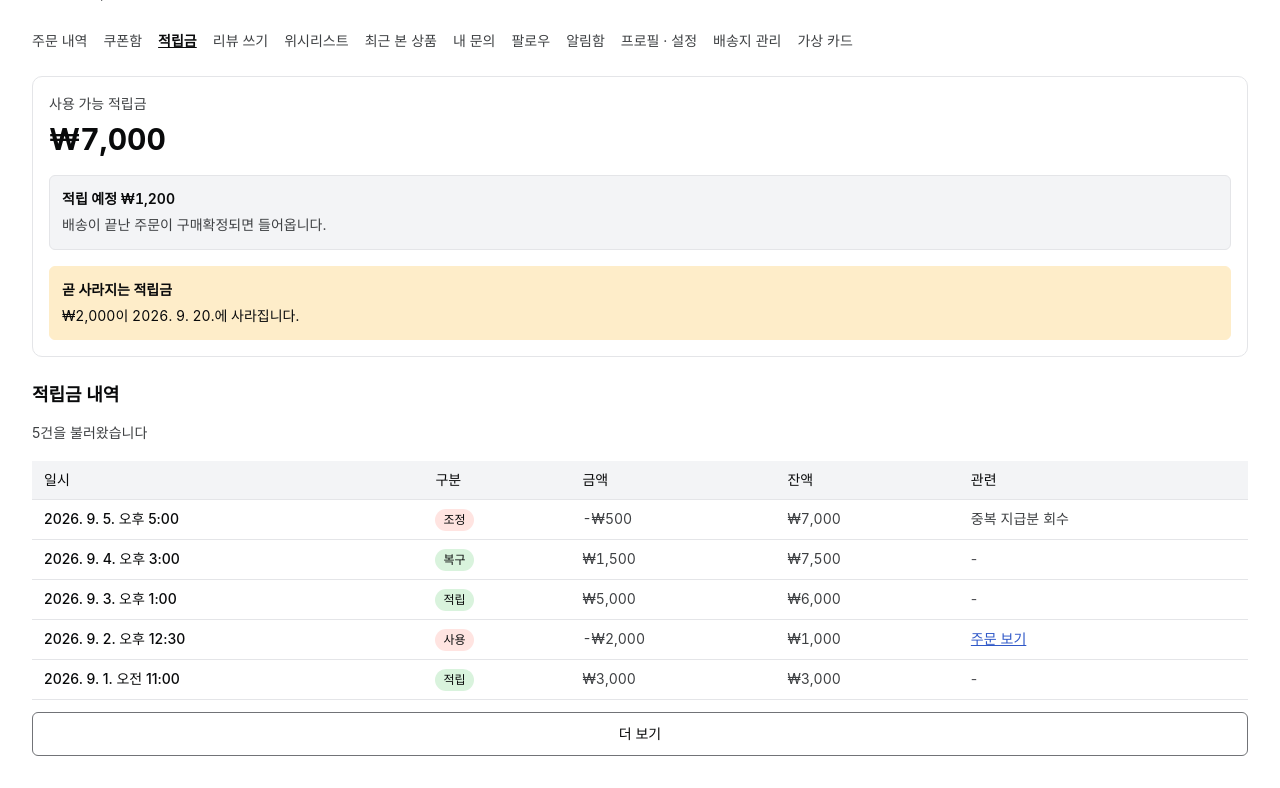
it: 원장 그대로 (F4) › gives every row a Korean name for its type (R1)
(page scrolled)
Expected: the table is shown, [32,460,1248,700]
Click the button "더 보기" at (640, 734), box [32,712,1248,756]
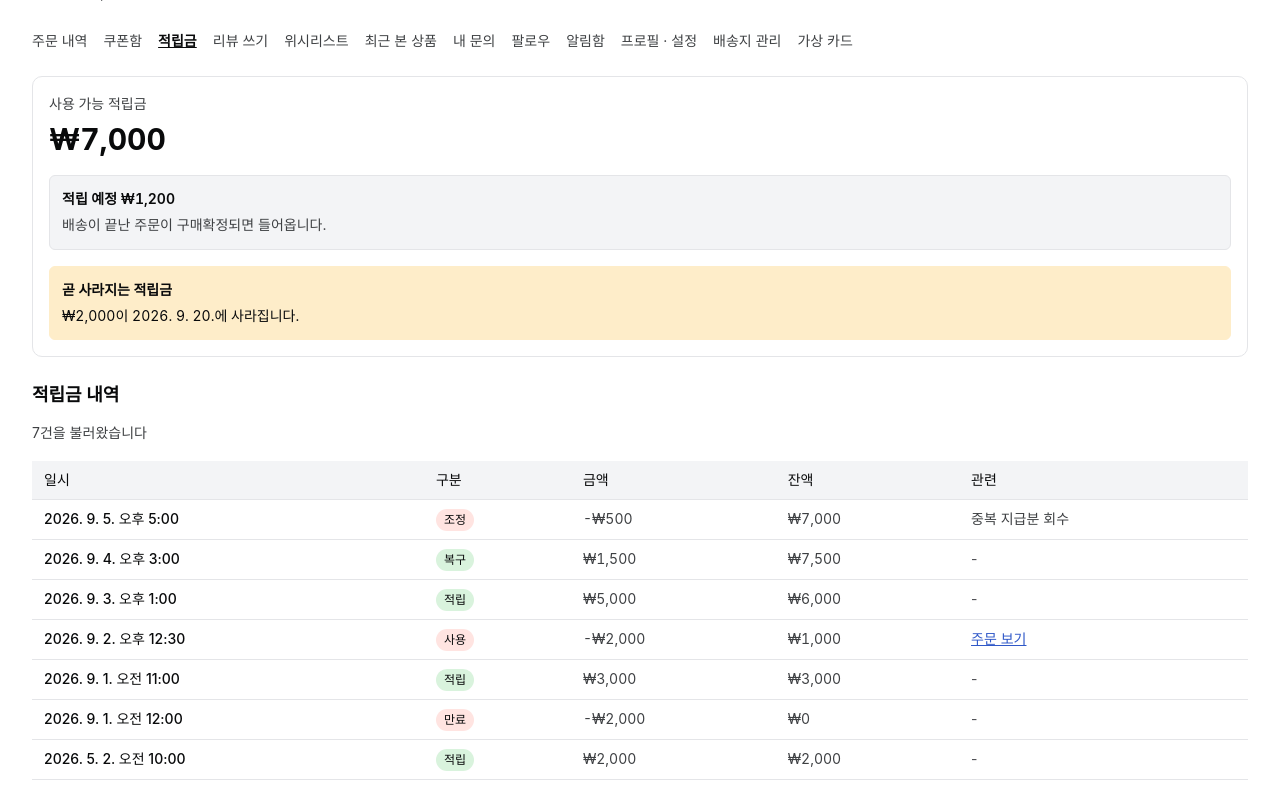
Expected: the text "적립" in the row of "2026. 9. 3. 오후 1:00" is shown, [444,592,466,607]
Now the button "더 보기" is gone
Now the text "만료" is shown, box [436,709,474,731]
